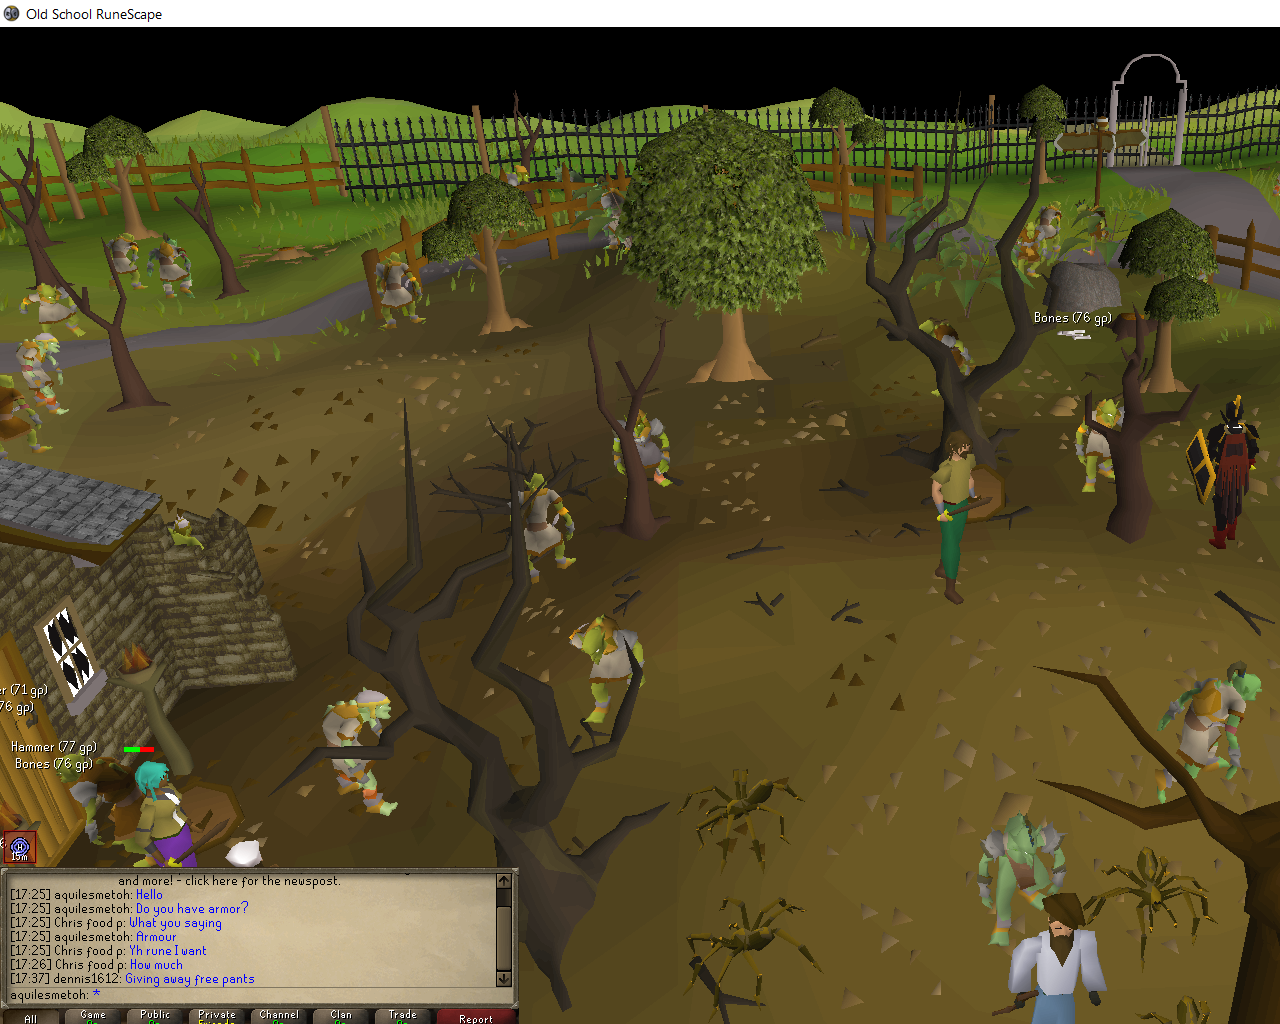Goblin: (50, 745, 183, 871), (1149, 658, 1259, 810), (311, 684, 408, 825), (975, 814, 1073, 950), (556, 611, 655, 727), (502, 473, 583, 587), (1065, 397, 1145, 499), (609, 410, 683, 498), (911, 316, 984, 403), (11, 330, 82, 418), (17, 279, 92, 345), (578, 184, 644, 257), (369, 249, 425, 333), (1, 373, 57, 458), (147, 234, 200, 303), (484, 163, 536, 230), (102, 228, 145, 296), (1074, 200, 1122, 258), (1013, 219, 1053, 280), (1031, 200, 1067, 254)
